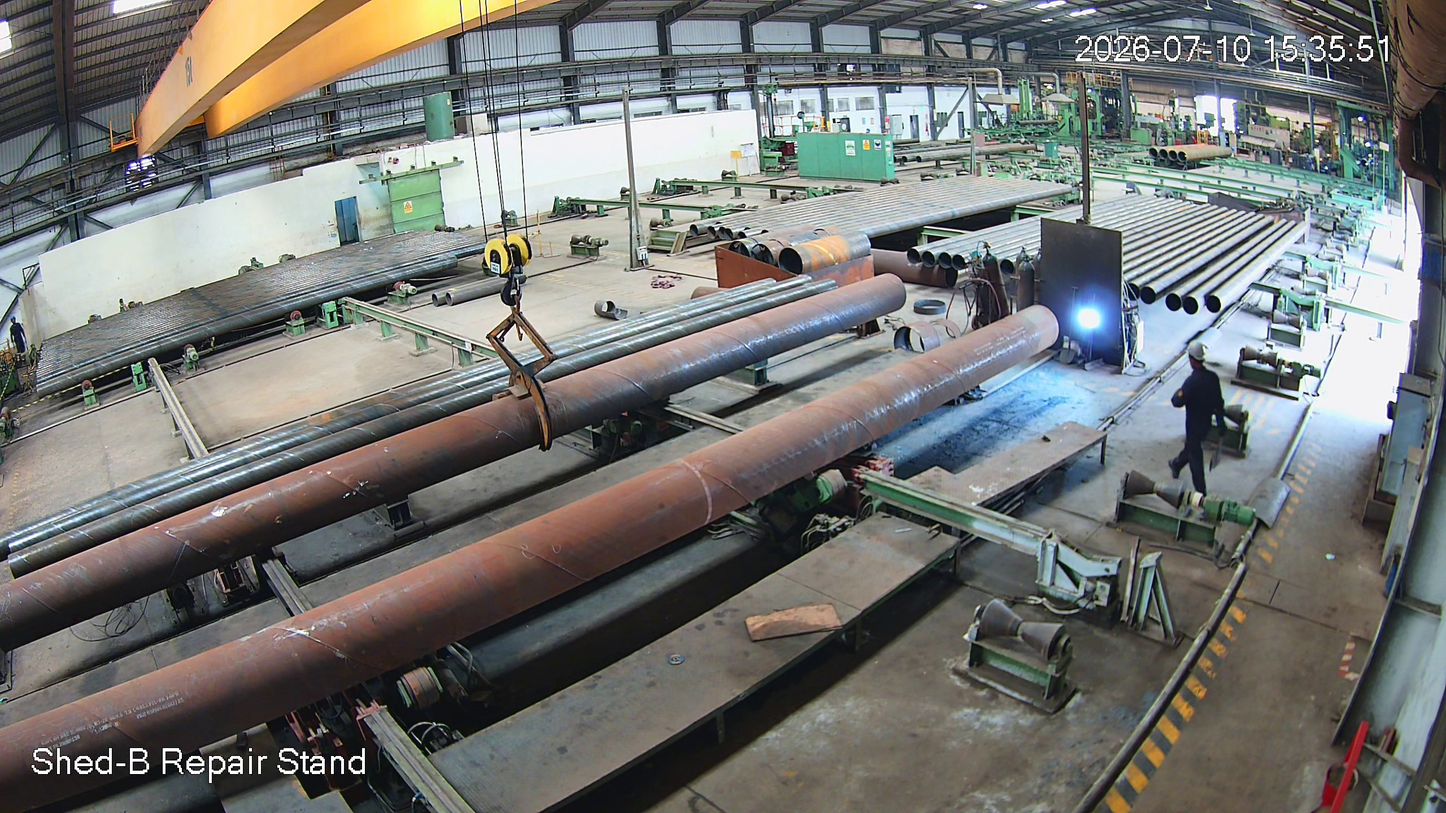Helmet: (1178, 334, 1213, 382)
Person: (1171, 338, 1220, 489)
